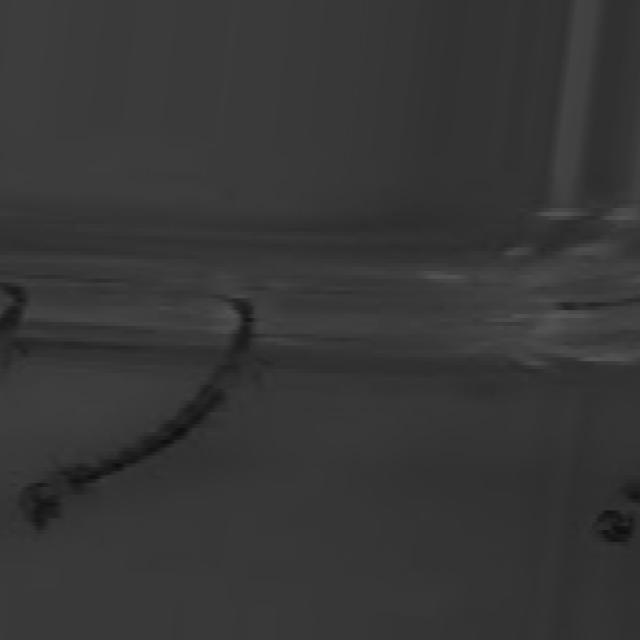larvas: (14, 287, 276, 569), (602, 460, 640, 547), (0, 271, 20, 345)
